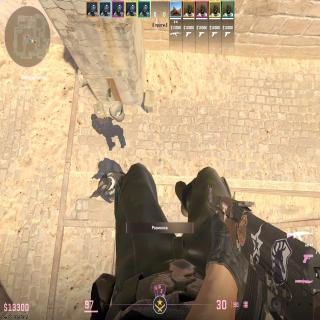CT-Body: (98, 170, 128, 204)
CT-Head: (98, 177, 109, 192)
